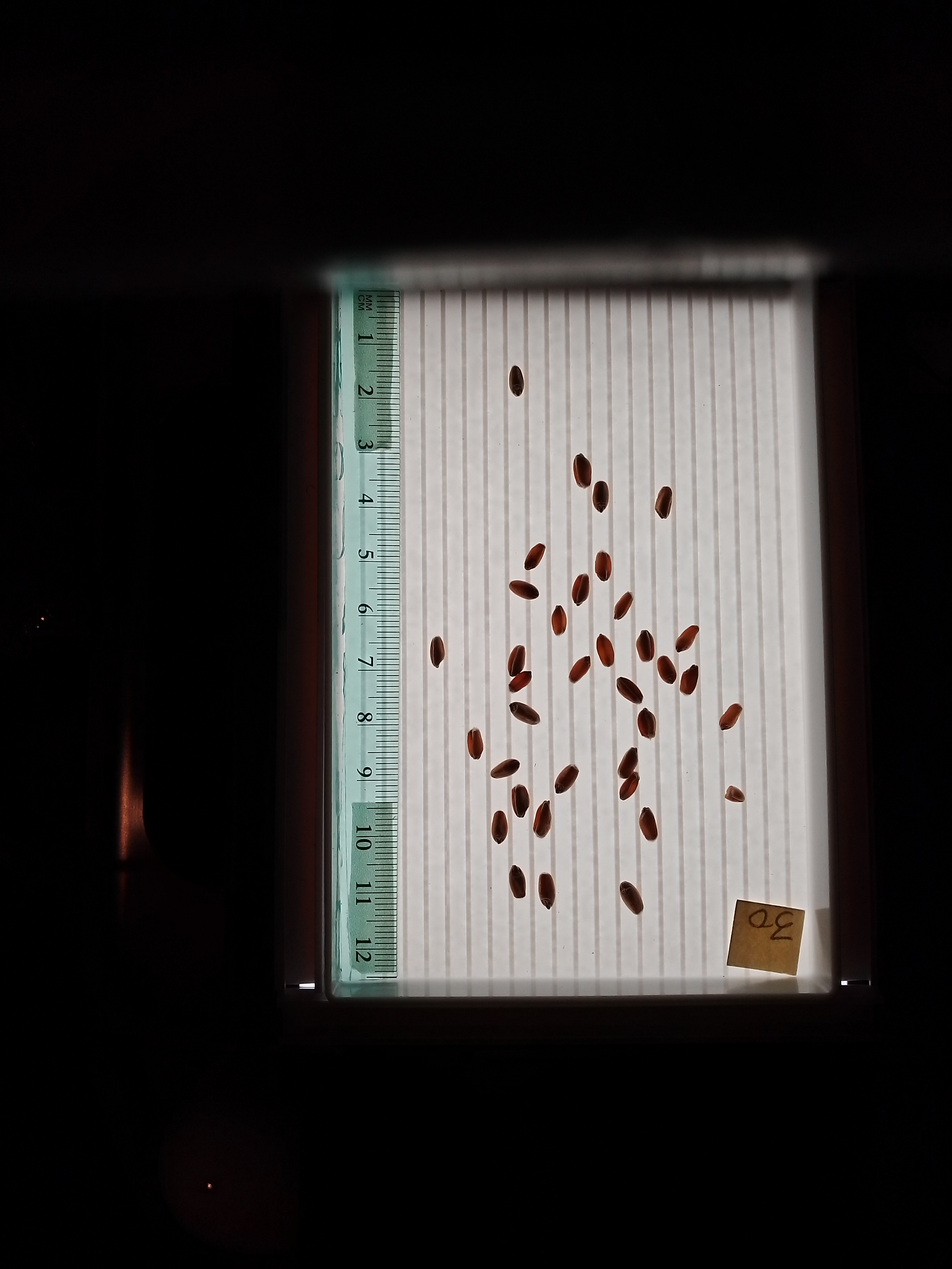seed mask: (620, 882, 644, 914), (510, 702, 539, 725), (618, 677, 642, 704), (555, 765, 578, 793), (573, 455, 592, 488), (618, 748, 638, 779), (534, 802, 551, 837), (592, 480, 610, 513), (676, 625, 698, 652), (720, 704, 742, 731), (655, 486, 673, 518), (640, 809, 658, 841), (569, 656, 590, 683), (619, 772, 639, 800), (512, 785, 529, 817), (509, 866, 526, 898), (572, 575, 590, 605), (492, 758, 519, 778), (510, 581, 538, 600), (637, 631, 654, 662), (597, 635, 614, 666), (638, 710, 656, 739), (508, 646, 525, 676), (658, 656, 676, 684), (680, 666, 698, 694), (525, 545, 545, 570), (491, 812, 507, 843), (595, 552, 612, 581), (509, 672, 532, 692), (509, 366, 524, 396), (430, 637, 445, 667), (615, 593, 632, 619), (468, 729, 483, 758), (552, 606, 566, 634), (726, 786, 744, 803)
